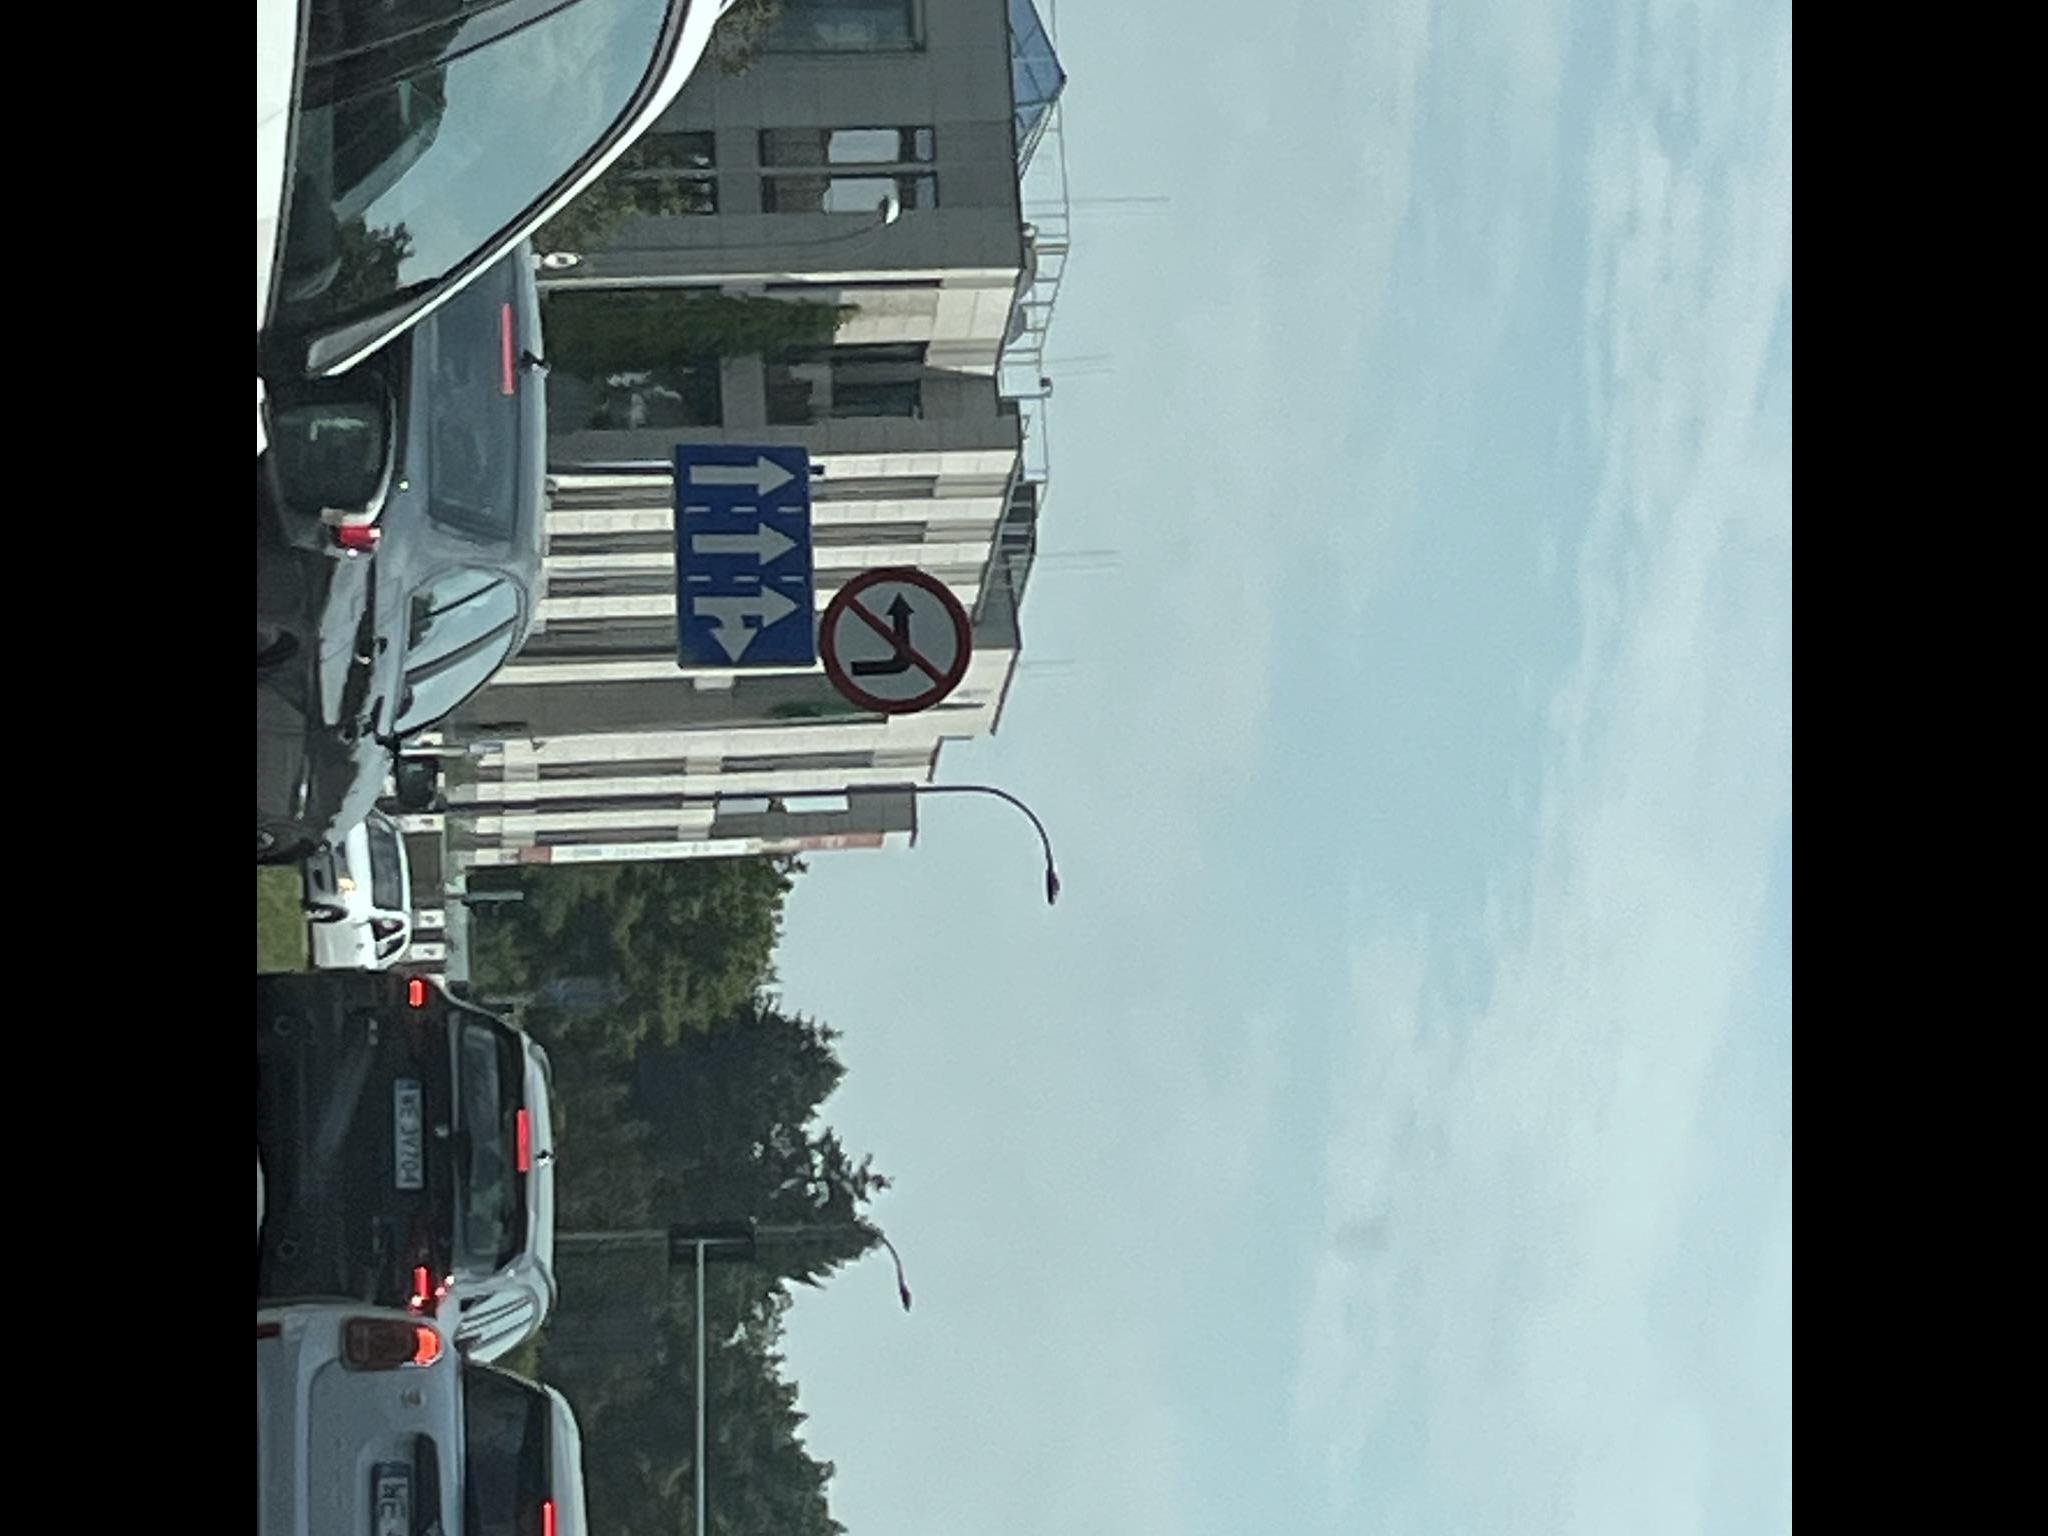other: (676, 447, 805, 668)
prohibitory: (818, 566, 972, 718)
